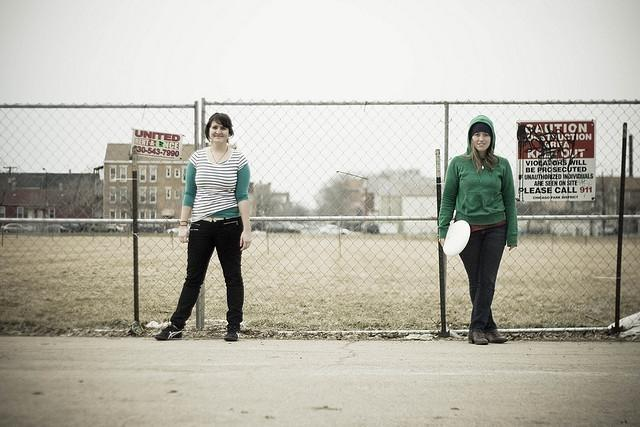car: (316, 224, 350, 236), (266, 221, 300, 233), (83, 222, 117, 233), (0, 223, 32, 233), (46, 224, 68, 234)
